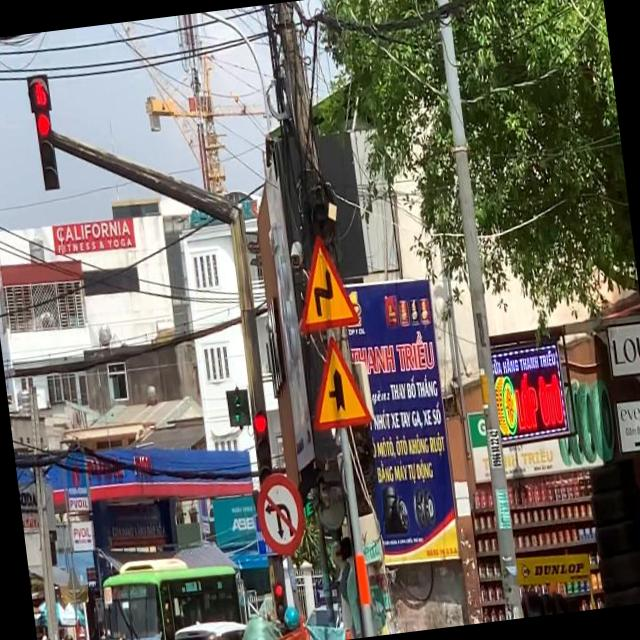P-124c: (252, 468, 308, 556)
W-202b: (294, 232, 358, 332)
W-207c: (306, 331, 372, 428)
